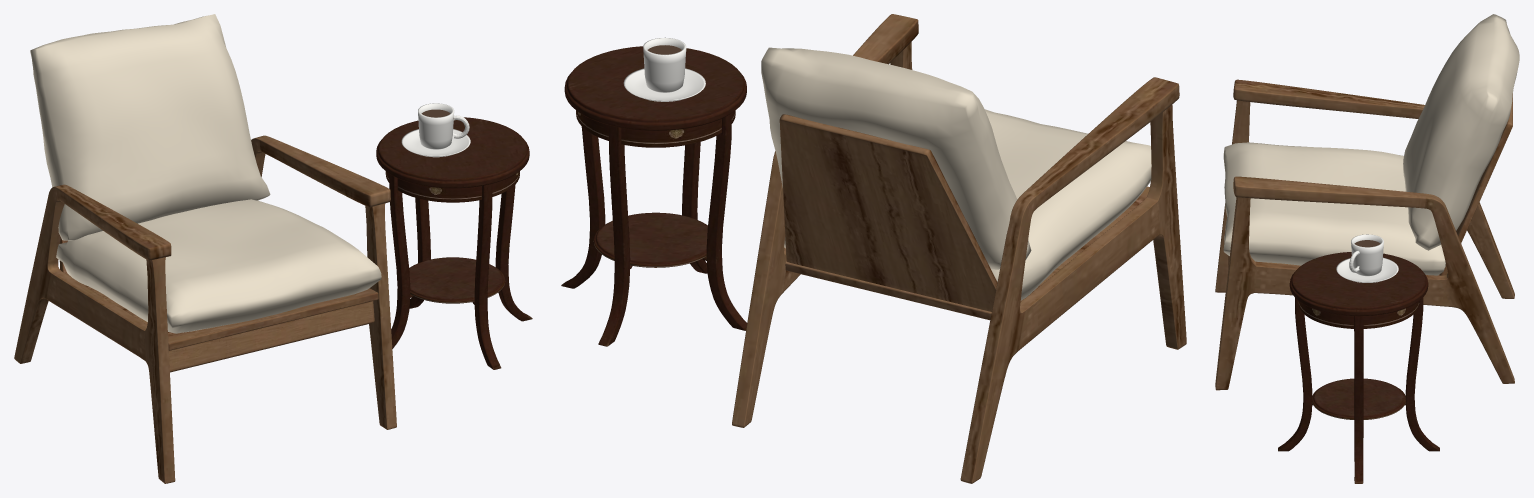
File: props.glb
3 renders of one model, left to right at view 1: azimuth 30°, elevation 25°; view 2: azimuth 150°, elevation 25°; view 3: azimuth 270°, elevation 25°, orthographic. The views are drawn at different scales.
Parts seen in each view (by area): view 1: modern_arm_chair_01, side_table_tall_01, MugBody, Saucer; view 2: modern_arm_chair_01, side_table_tall_01, MugBody, Saucer; view 3: modern_arm_chair_01, side_table_tall_01, MugBody, Saucer.
Part boxes in pixels (x1,y1,x2,y2): modern_arm_chair_01: (14,14,396,483); side_table_tall_01: (376,117,532,369); MugBody: (418,103,454,149); Saucer: (401,129,470,157); modern_arm_chair_01: (732,14,1186,483); side_table_tall_01: (561,46,747,346); MugBody: (643,37,686,92); Saucer: (623,68,705,101); modern_arm_chair_01: (1215,14,1519,390); side_table_tall_01: (1278,252,1439,483); MugBody: (1351,234,1383,276); Saucer: (1336,257,1398,282).
Size of the model in its own units: 1.11 by 0.747 by 0.7205.
5 materials, 2 textured.
